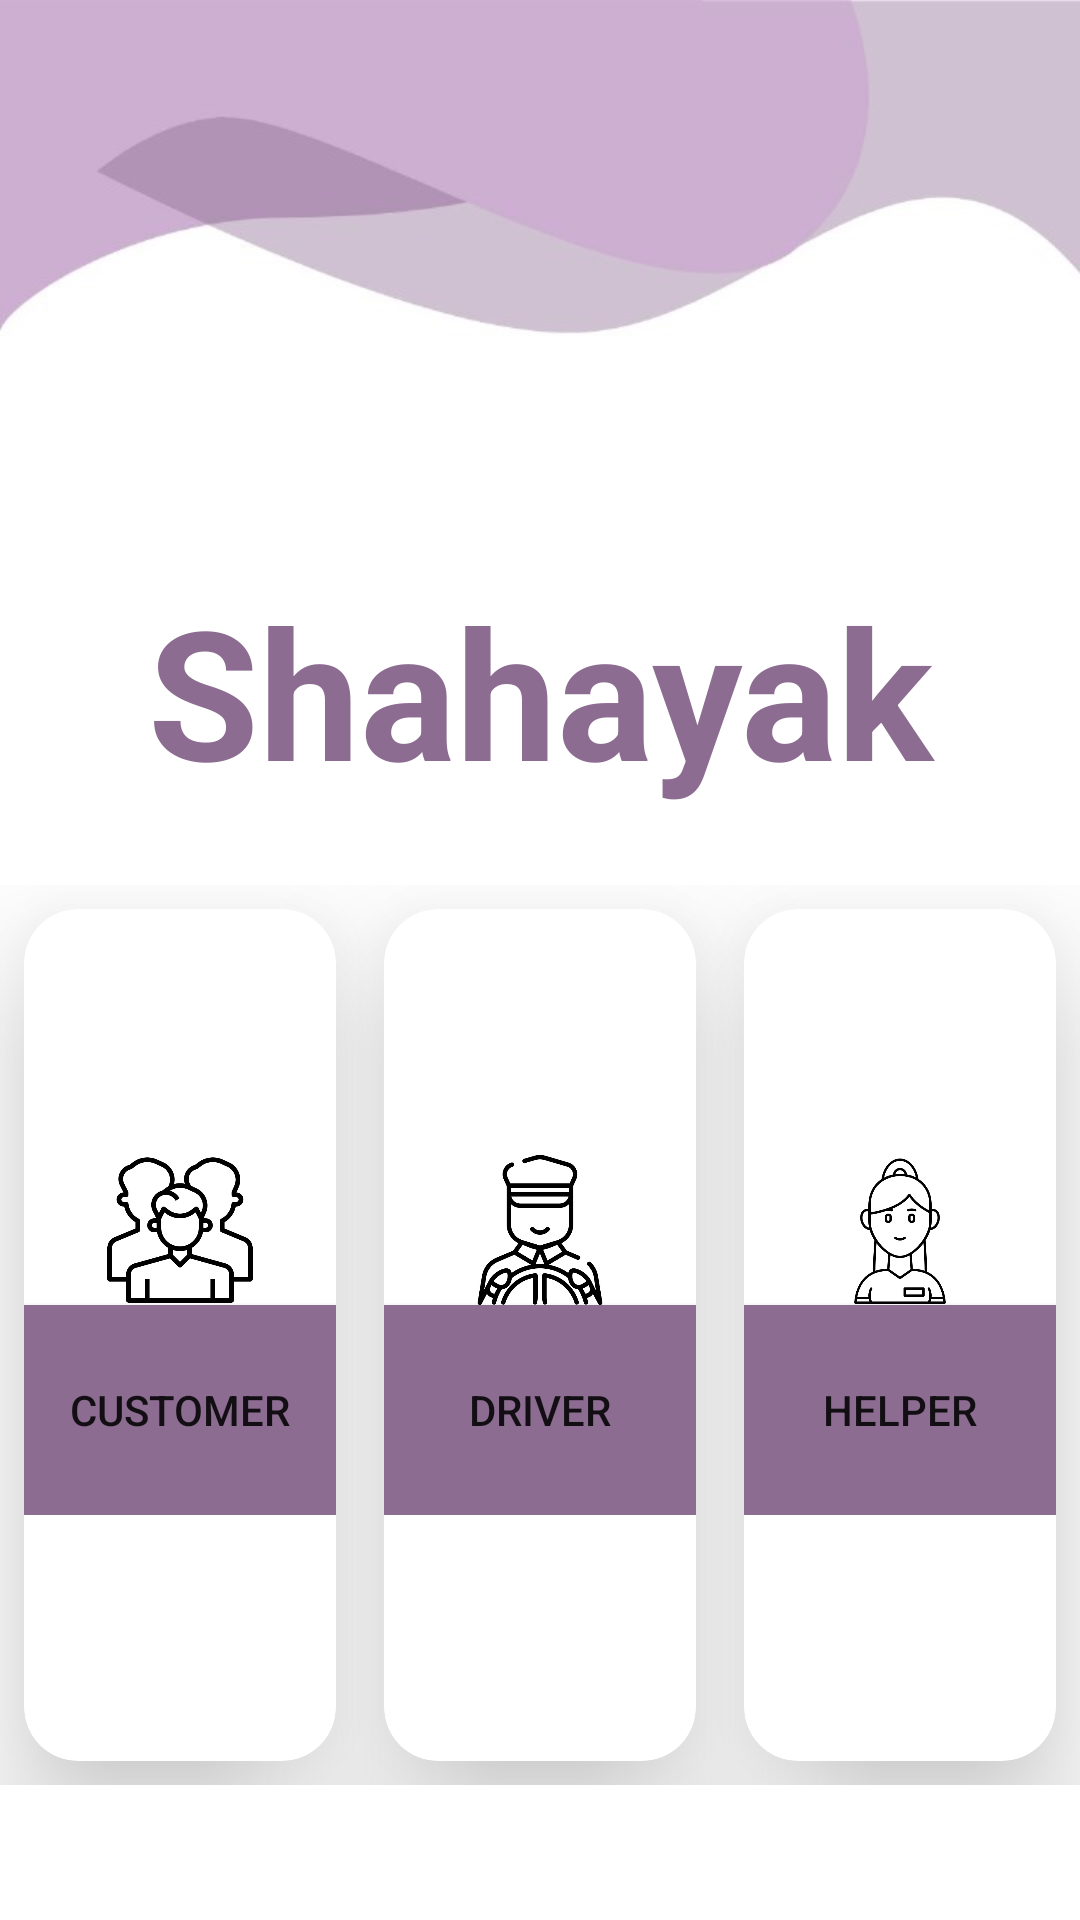

Icons on this 1080px x 1920px Android screen, each with the point to tap as point (x, y):
people: point (180, 1230)
